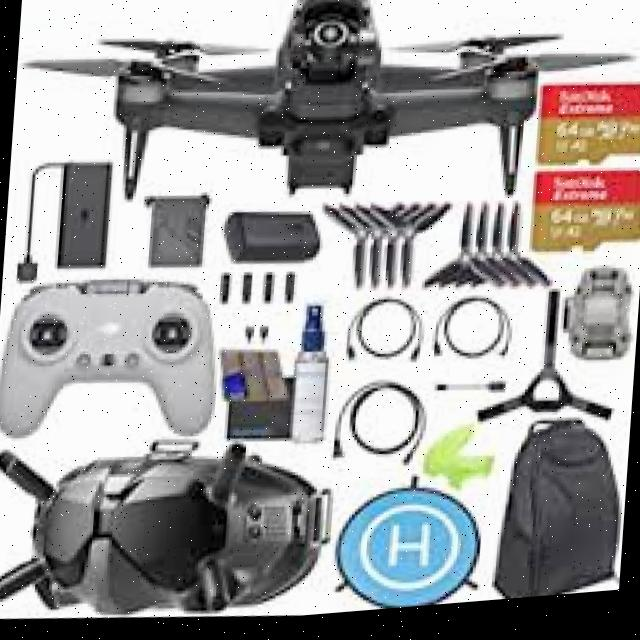drone: (9, 0, 640, 283)
